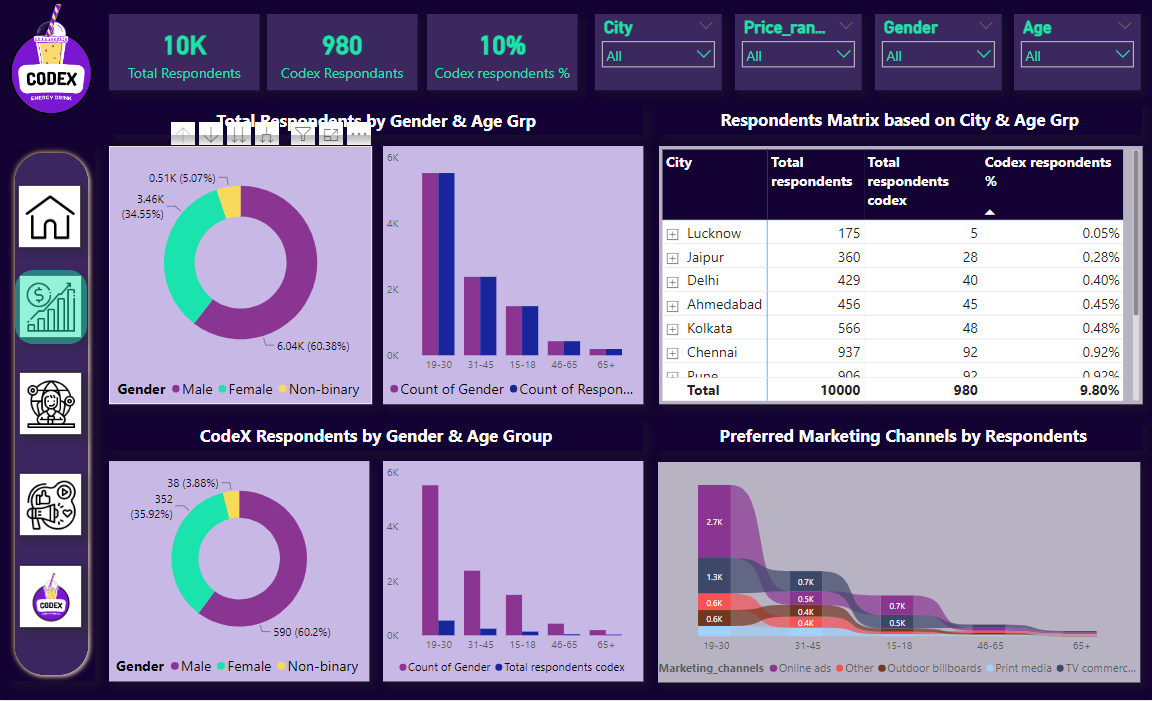

The page's visual inventory and layout, read from the dashboard file:
{"tool":"powerbi","page":{"name":"Demographic View","canvas":[1650,1000],"ordinal":1},"visuals":[{"type":"card","title":"Total Respondents","fields":{"Values":["CountNonNull(codex fact_survey_responses.Respondent_ID)"]},"box":[157.4,20.4,215,109.3],"z":0},{"type":"slicer","fields":{"Values":["codex dim_repondents.Gender"]},"box":[1251.9,20.4,181.5,109.3],"z":1000},{"type":"slicer","fields":{"Values":["codex dim_repondents.Age"]},"box":[1450,20.4,181.5,109.3],"z":2000},{"type":"slicer","fields":{"Values":["codex fact_survey_responses.Price_range"]},"box":[1051.9,20.4,181.5,109.3],"z":3000},{"type":"donutChart","fields":{"Category":["codex dim_repondents.Gender","codex dim_repondents.Respondent_ID"],"Y":["CountNonNull(codex dim_repondents.Age)"]},"box":[157.4,209.3,375.9,368.5],"z":4000},{"type":"clusteredColumnChart","fields":{"Category":["codex dim_repondents.Age"],"Y":["CountNonNull(codex dim_repondents.Gender)","CountNonNull(codex dim_repondents.Respondent_ID)"]},"box":[548.1,209.3,372.2,368.5],"z":5000},{"type":"slicer","fields":{"Values":["codex dim_cities.City"]},"box":[851.9,20.4,181.5,109.3],"z":6000},{"type":"pivotTable","fields":{"Rows":["codex dim_cities.City","codex dim_repondents.Age","codex dim_repondents.Gender"],"Values":["CountNonNull(codex fact_survey_responses.Response_ID)","Report measures.Total respondents codex","Report measures.Codex respondents %"]},"box":[942.6,209.3,690.7,368.5],"z":7000},{"type":"card","fields":{"Values":["Report measures.Codex respondent"]},"box":[383.3,20.4,214.8,109.3],"z":8000},{"type":"card","fields":{"Values":["Report measures.Codex respondents %"]},"box":[611.1,20.4,214.8,109.3],"z":9000},{"type":"donutChart","fields":{"Category":["codex dim_repondents.Gender"],"Y":["Report measures.Total respondents codex"]},"box":[157.4,659.3,372.2,314.8],"z":10000},{"type":"textbox","box":[157.4,150,763,42.6],"z":11000},{"type":"textbox","box":[157.4,600,763,44.4],"z":12000},{"type":"textbox","box":[942.6,600,690.7,44.4],"z":13000},{"type":"textbox","box":[940.7,148.1,690.7,44.4],"z":14000},{"type":"clusteredColumnChart","fields":{"Category":["codex dim_repondents.Age"],"Y":["CountNonNull(codex dim_repondents.Gender)","Report measures.Total respondents codex"]},"box":[548.1,659.3,372.2,314.8],"z":15000},{"type":"shape","box":[13,209.3,124.1,764.8],"z":16000},{"type":"ribbonChart","fields":{"Series":["codex fact_survey_responses.Marketing_channels"],"Y":["CountNonNull(codex fact_survey_responses.Respondent_ID)"],"Category":["codex dim_repondents.Age"]},"box":[941.8,660,689.1,314.5],"z":18000},{"type":"image","box":[1.4,0,145.7,171.4],"z":19000},{"type":"image","box":[27.1,264.3,90,90],"z":20000},{"type":"image","box":[28.6,675.7,90,90],"z":21000},{"type":"image","box":[28.6,531.4,90,90],"z":22000},{"type":"image","box":[28.6,392.9,90,90],"z":23000},{"type":"image","box":[28.6,807.1,90,90],"z":24000},{"type":"shape","box":[22.9,385.7,102.9,105.7],"z":24500}]}

Visuals, with their boxes on the page's 1650x1000 design canvas (x1, y1, x2, y2). These are canvas units, not pixel positions in the 1152x701 screenshot, which may show the page scaled, cropped or inside an application window:
"Total Respondents" card: 157:20:372:130
slicer - codex dim_repondents.Gender: 1252:20:1433:130
slicer - codex dim_repondents.Age: 1450:20:1632:130
slicer - codex fact_survey_responses.Price_range: 1052:20:1233:130
donutChart - codex dim_repondents.Gender x codex dim_repondents.Respondent_ID: 157:209:533:578
clusteredColumnChart - codex dim_repondents.Age x CountNonNull(codex dim_repondents.Gender): 548:209:920:578
slicer - codex dim_cities.City: 852:20:1033:130
pivotTable - codex dim_cities.City x codex dim_repondents.Age: 943:209:1633:578
card - Report measures.Codex respondent: 383:20:598:130
card - Report measures.Codex respondents %: 611:20:826:130
donutChart - codex dim_repondents.Gender x Report measures.Total respondents codex: 157:659:530:974
textbox: 157:150:920:193
textbox: 157:600:920:644
textbox: 943:600:1633:644
textbox: 941:148:1631:192
clusteredColumnChart - codex dim_repondents.Age x CountNonNull(codex dim_repondents.Gender): 548:659:920:974
shape: 13:209:137:974
ribbonChart - codex fact_survey_responses.Marketing_channels x CountNonNull(codex fact_survey_responses.Respondent_ID): 942:660:1631:974
image: 1:0:147:171
image: 27:264:117:354
image: 29:676:119:766
image: 29:531:119:621
image: 29:393:119:483
image: 29:807:119:897
shape: 23:386:126:491
